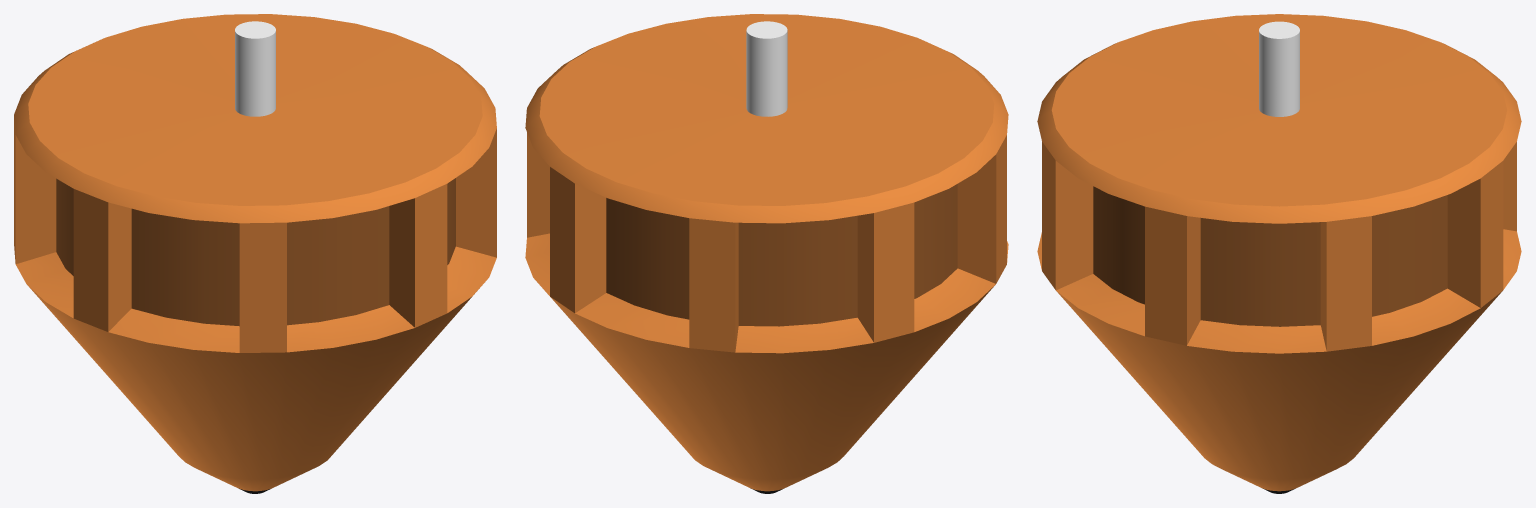
File: piao.fbx
3 views of the same model, side by side, from view 1: azimuth 30°, elevation 25°; view 2: azimuth 150°, elevation 25°; view 3: azimuth 270°, elevation 25° (orthographic).
Parts seen in each view (by area): view 1: dentro; view 2: dentro; view 3: dentro.
Part boxes in pixels (<box>): dentro: <box>14,14,496,493</box>; dentro: <box>525,14,1008,493</box>; dentro: <box>1037,14,1521,493</box>.
Size of the model in its own units: 200 by 209 by 200.
